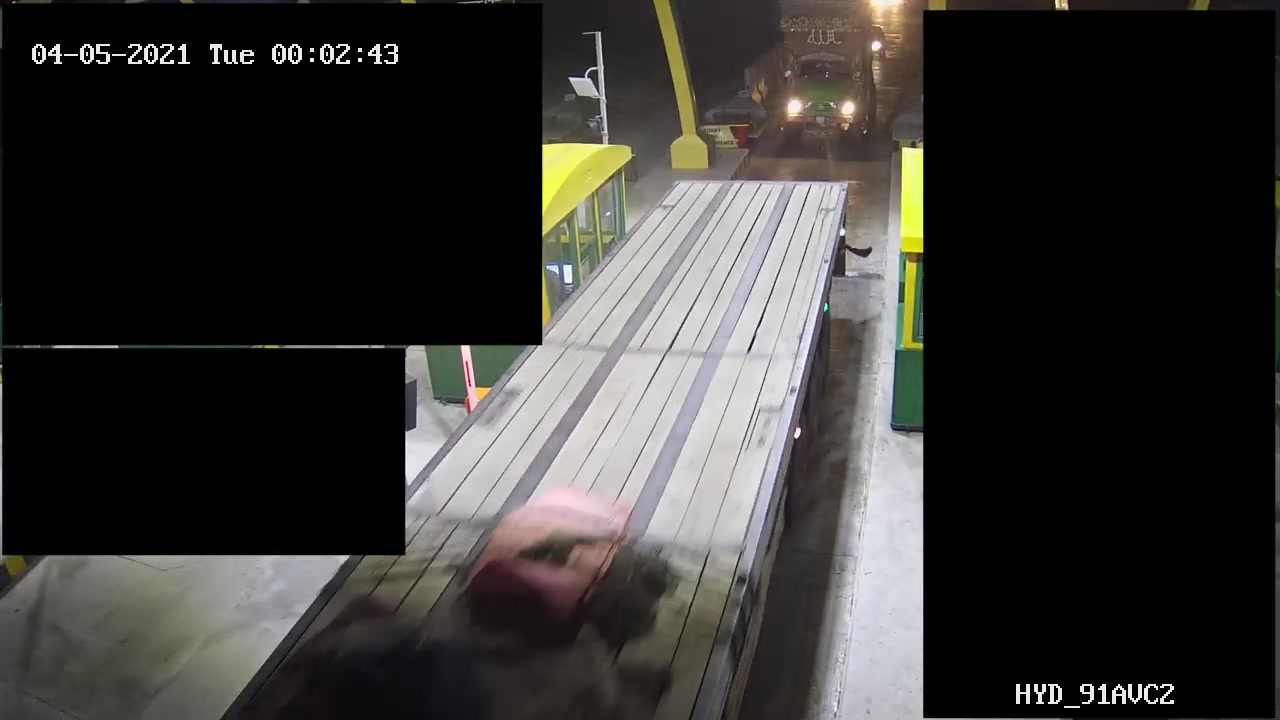F5: (778, 1, 874, 158)
